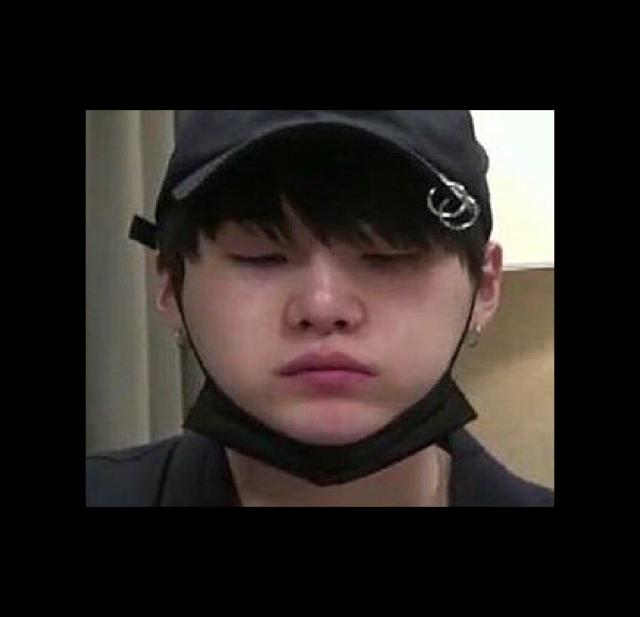mask_weared_incorrect: (204, 242, 461, 468)
